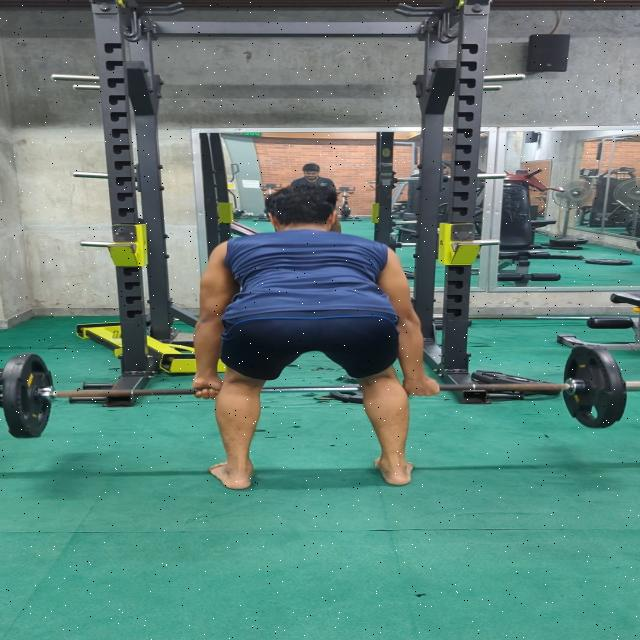Normal_Deadlifts: (193, 183, 440, 490)
